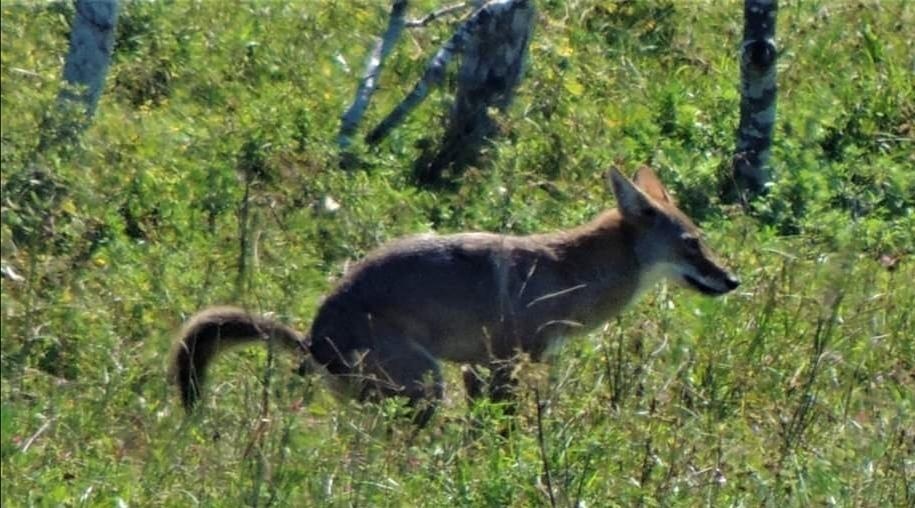Coyote: (164, 163, 742, 441)
